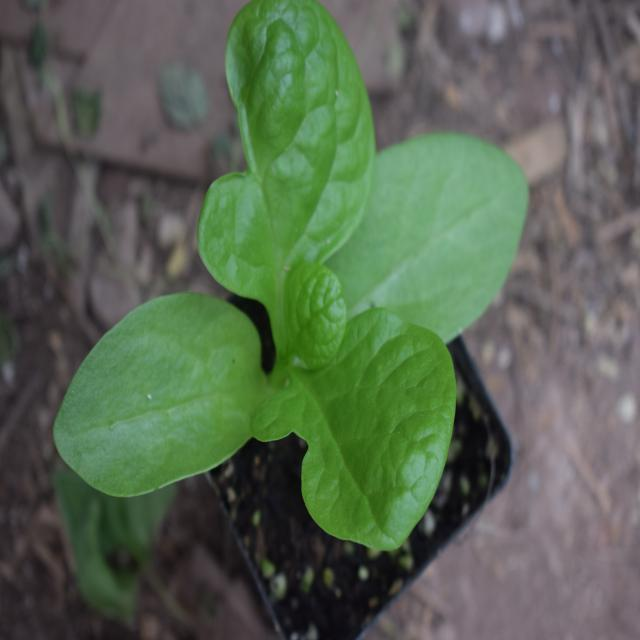Ceylon spinach: (80, 23, 528, 524)
